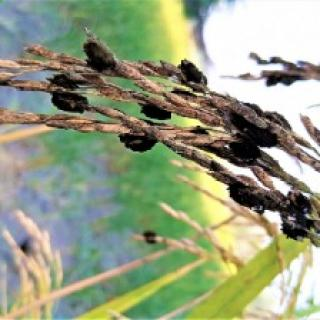Gosong-Palsu: (230, 111, 276, 144), (84, 29, 117, 70), (229, 183, 270, 211), (283, 190, 311, 216), (51, 93, 87, 111), (120, 134, 156, 151), (180, 61, 206, 84), (281, 216, 307, 239), (230, 139, 259, 157), (141, 104, 169, 117)
